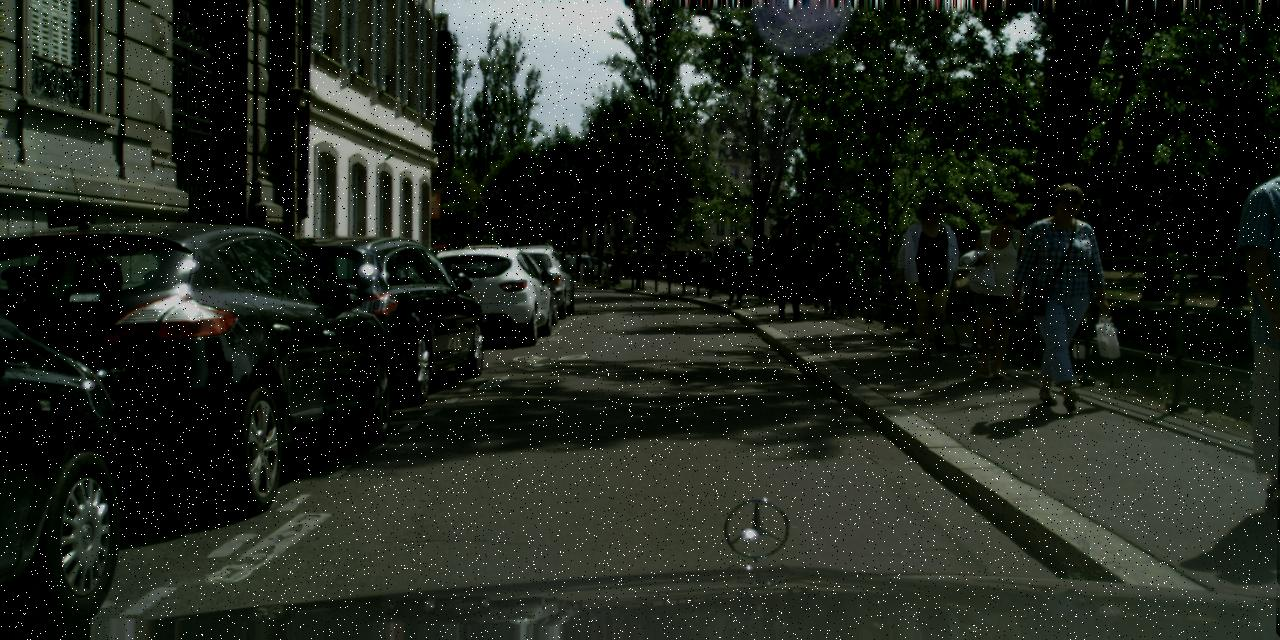ped: (1199, 140, 1279, 510), (1019, 182, 1110, 406), (962, 201, 1034, 377), (902, 197, 967, 355), (769, 221, 809, 319), (810, 225, 849, 319), (750, 234, 779, 305), (722, 237, 749, 305), (623, 250, 636, 280)
